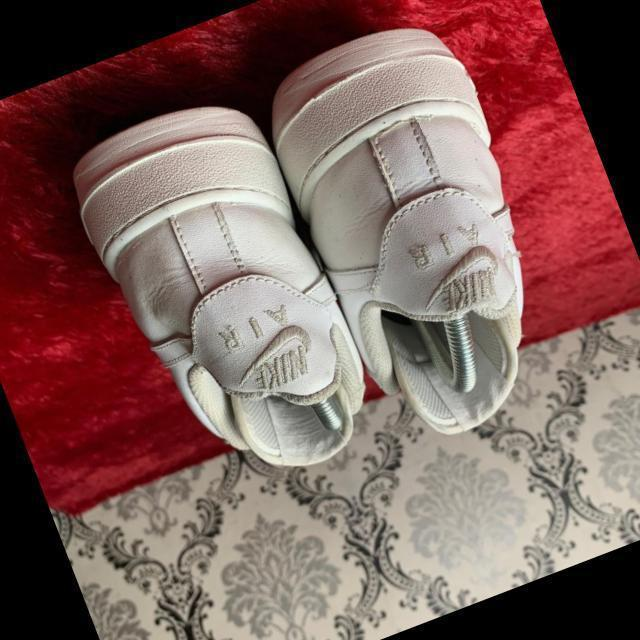nike fake air force: (242, 5, 586, 458), (53, 76, 388, 508)
